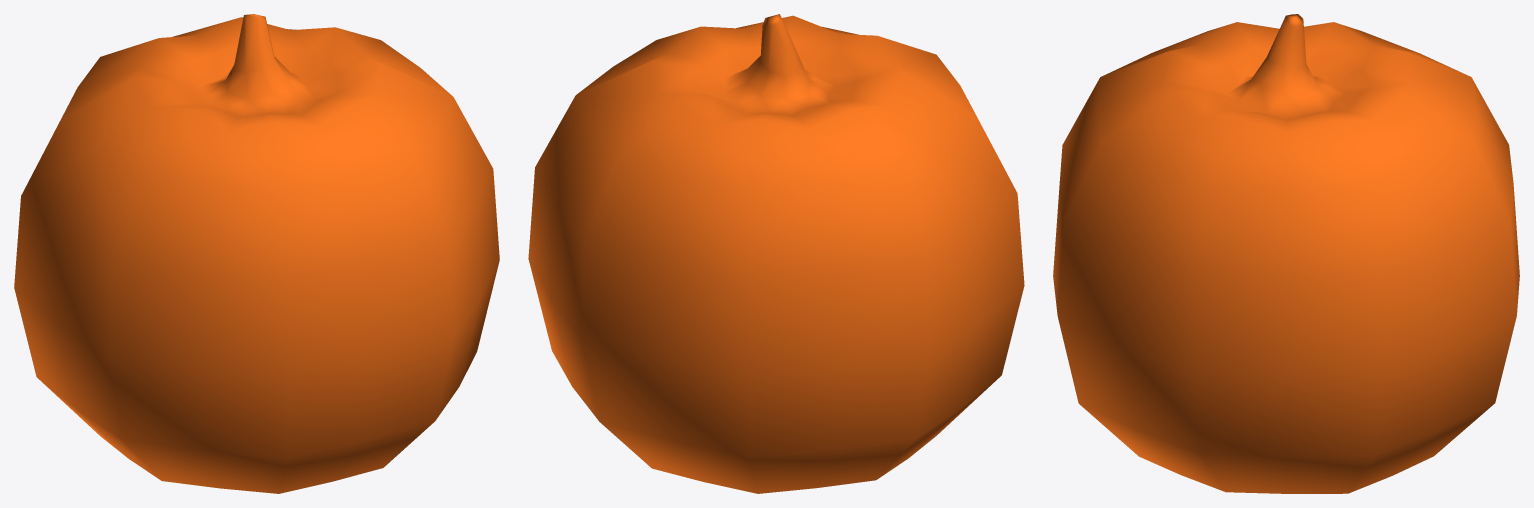
Rendered from Pumpkin Small Organic LP (No Carving).obj.
3 renders of one model, left to right at view 1: azimuth 30°, elevation 25°; view 2: azimuth 150°, elevation 25°; view 3: azimuth 270°, elevation 25°, orthographic.
Visible parts, largest first — view 1: Main_Pumpkin_Small_Organic_LP; view 2: Main_Pumpkin_Small_Organic_LP; view 3: Main_Pumpkin_Small_Organic_LP.
Part boxes in pixels (x1,y1,x2,y2): Main_Pumpkin_Small_Organic_LP: (14, 14, 499, 493); Main_Pumpkin_Small_Organic_LP: (528, 14, 1024, 493); Main_Pumpkin_Small_Organic_LP: (1053, 14, 1519, 493).
Bounding box in the file's own units: 0.8339 × 0.834 × 0.8333.
Materials: 1 (1 with a texture image).
